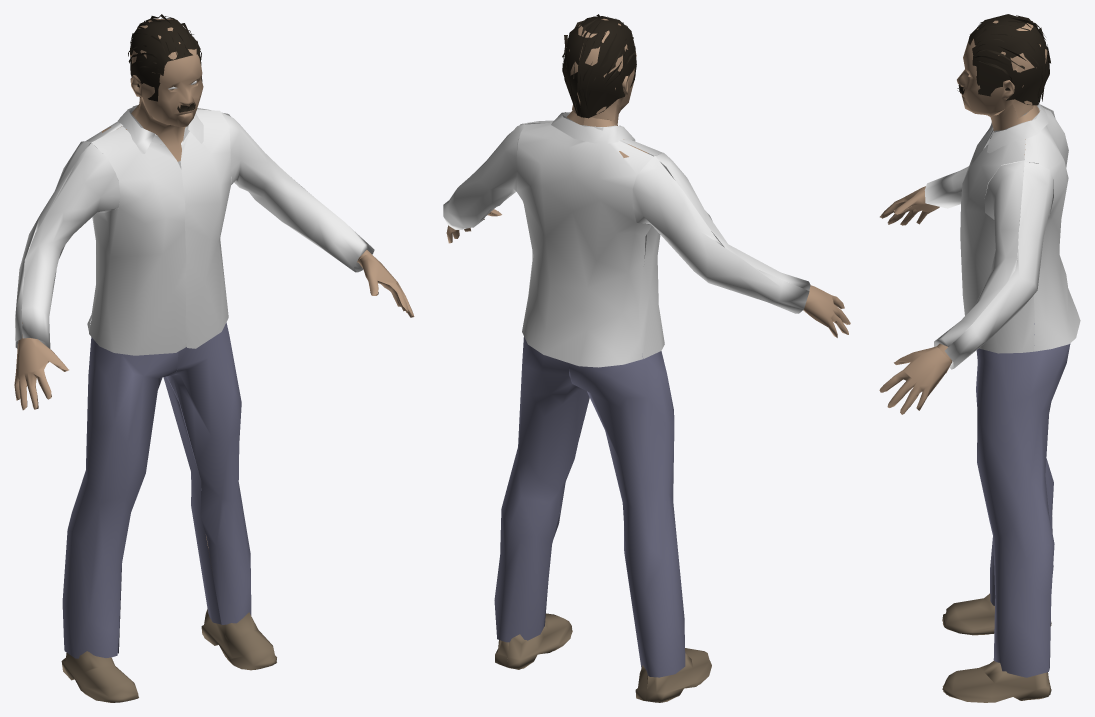
File: man_00.glb
The picture shows the model from 3 angles, left to right: view 1: azimuth 30°, elevation 25°; view 2: azimuth 150°, elevation 25°; view 3: azimuth 270°, elevation 25°; orthographic projection.
Parts seen in each view (by area): view 1: crowd; view 2: crowd; view 3: crowd.
Part boxes in pixels (x1,y1,x2,y2): crowd: [14, 14, 414, 702]; crowd: [443, 14, 850, 702]; crowd: [879, 14, 1080, 702].
Size of the model in its own units: 1.05 by 1.66 by 0.4704.
